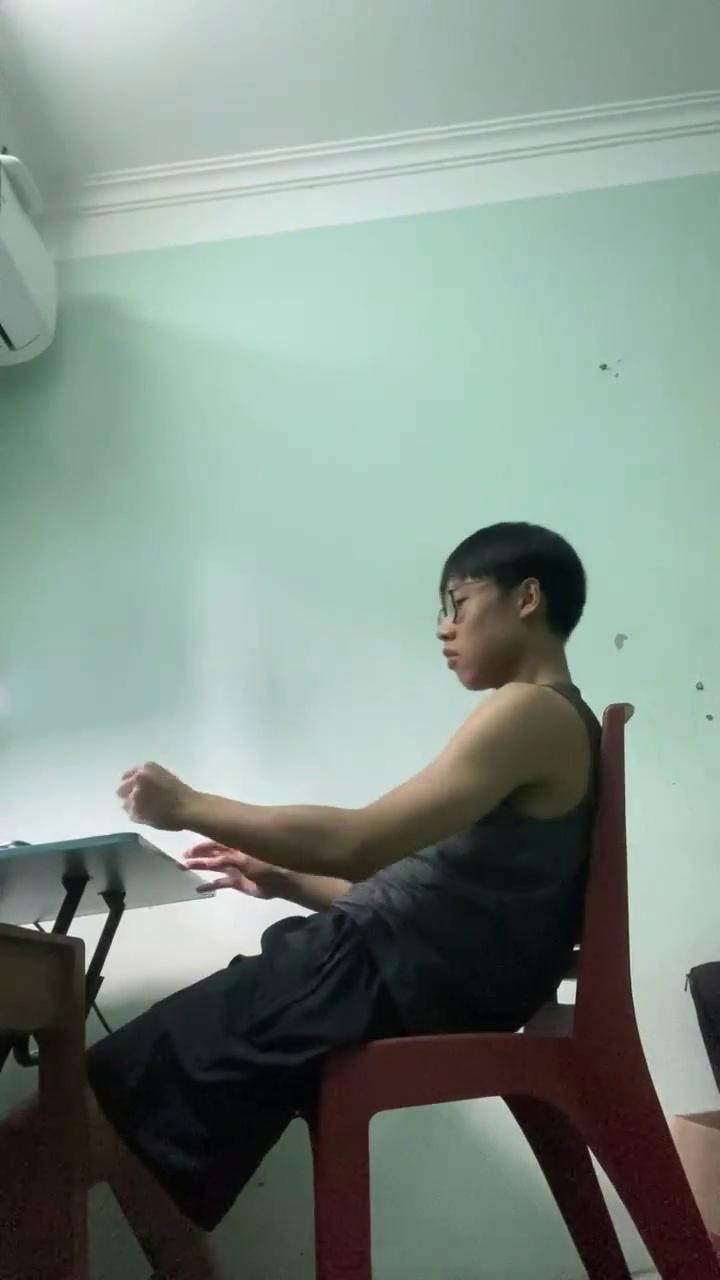BadPosture: (0, 516, 620, 1275), (343, 521, 599, 1035)
